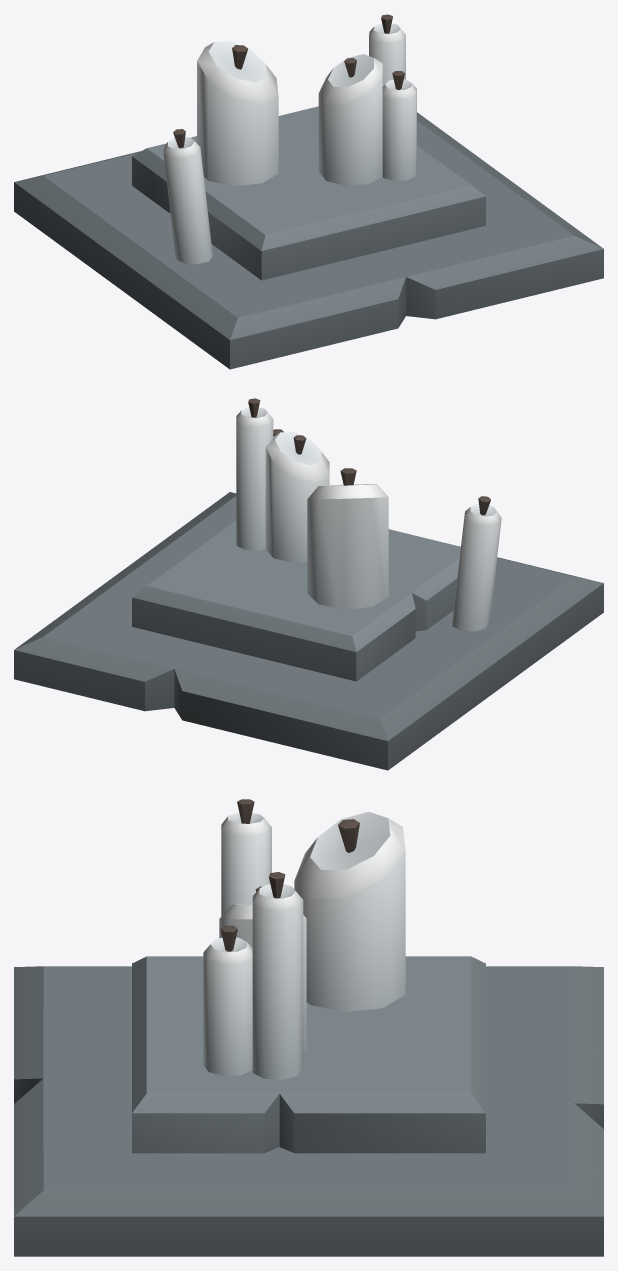
The model's file is Plaque Candles.glb.
3 views of the same model, one above another, from view 1: azimuth 30°, elevation 25°; view 2: azimuth 150°, elevation 25°; view 3: azimuth 270°, elevation 25° (orthographic). The views are drawn at different scales.
Visible parts, largest first — view 1: plaque_candles; view 2: plaque_candles; view 3: plaque_candles.
Boxes of the visible parts, x1,y1,x2,y2 form: plaque_candles: (14,14,603,369); plaque_candles: (14,398,603,770); plaque_candles: (14,799,603,1256).
Size of the model in its own units: 2 by 1.13 by 2.
1 material, 1 textured.
